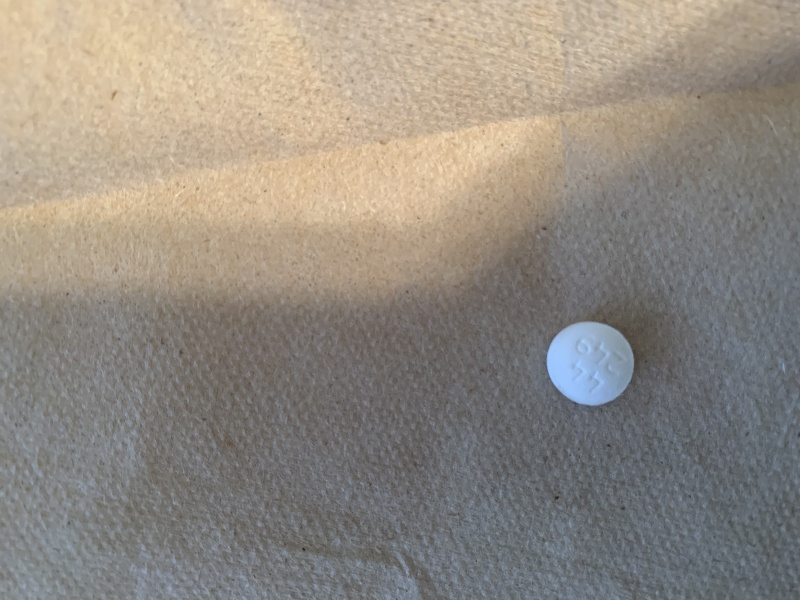Aspirin: (540, 318, 638, 413)
